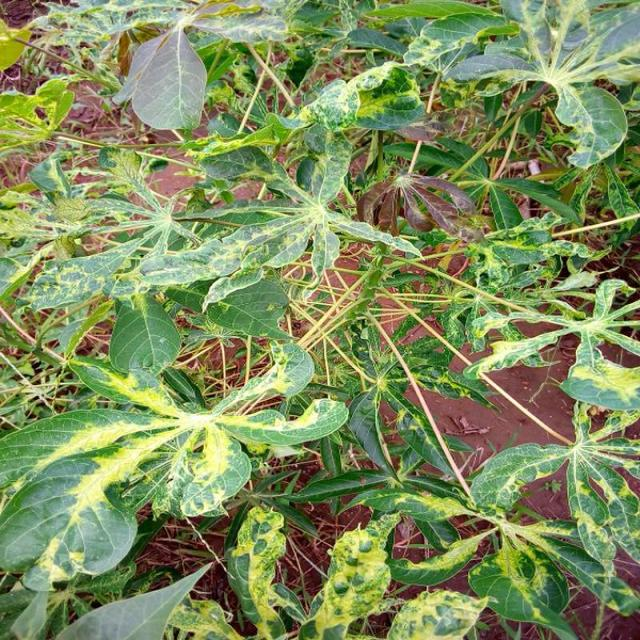cassava leaf: (2, 1, 640, 638), (113, 24, 209, 131)
